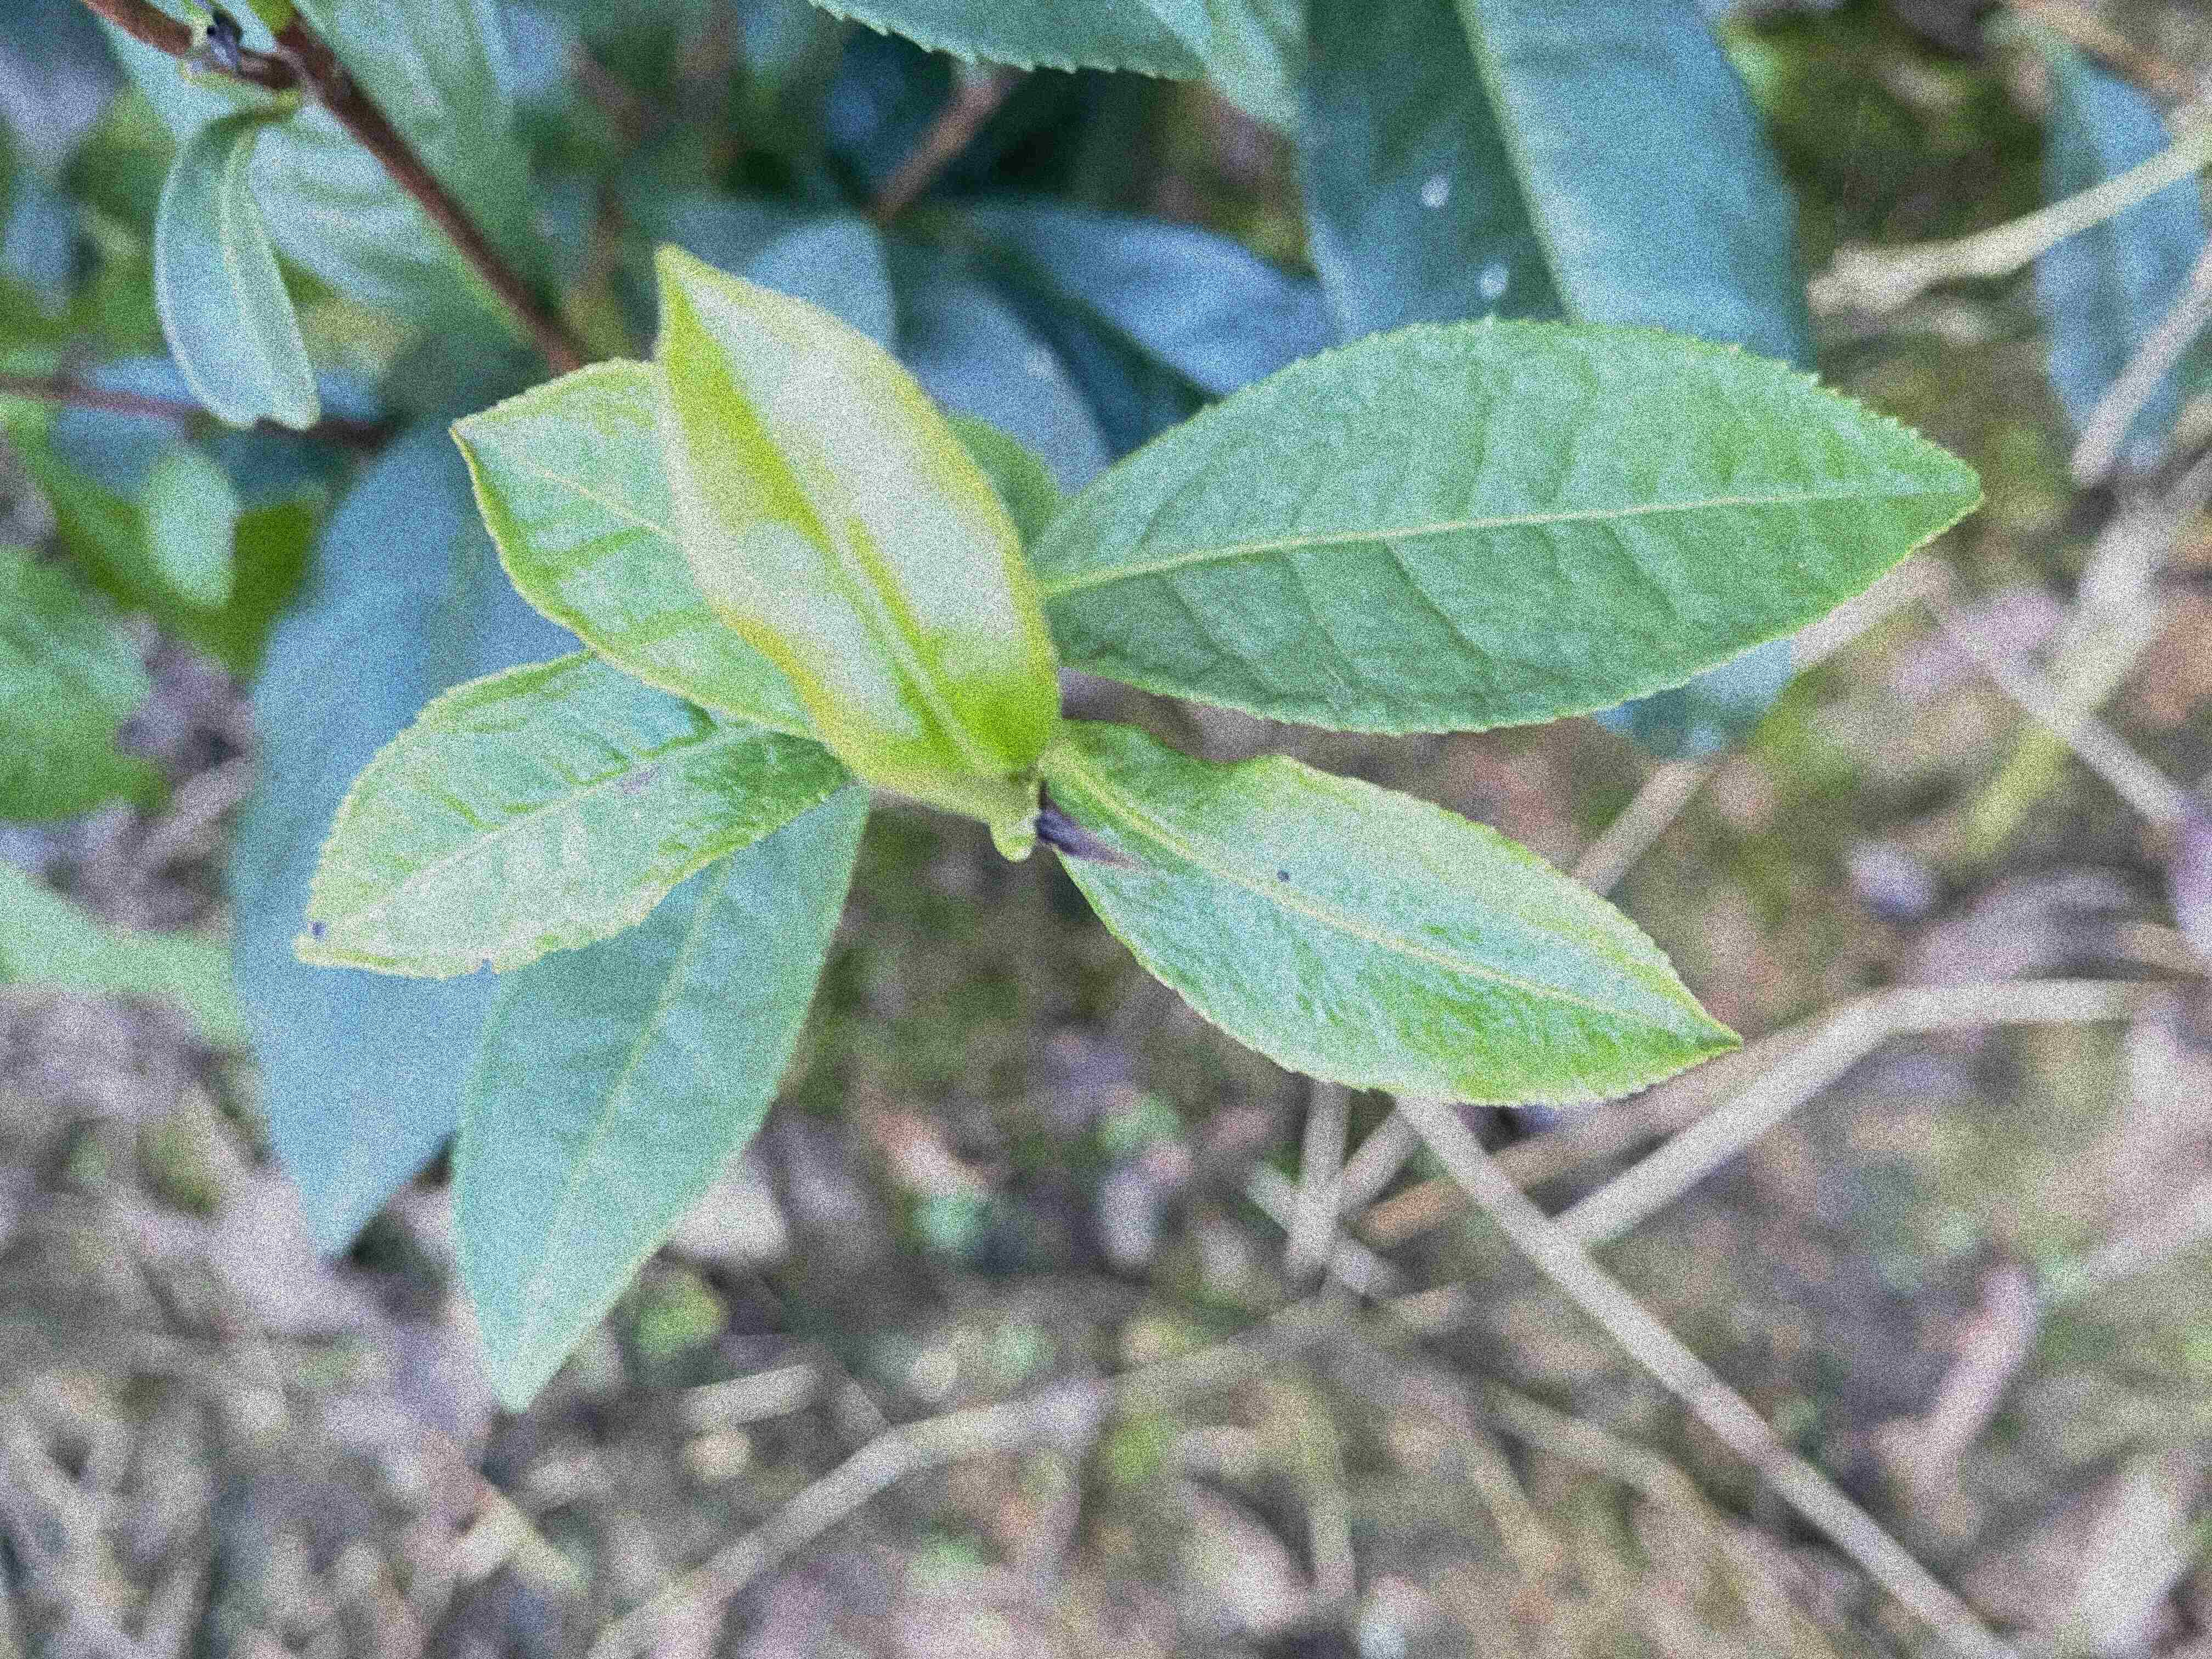healthy: (1035, 317, 1984, 737), (651, 237, 1062, 784)
tanju_low: (289, 659, 841, 983)
